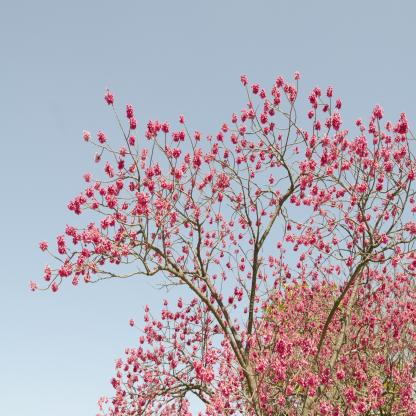KanhiSakura: (28, 69, 416, 416)
